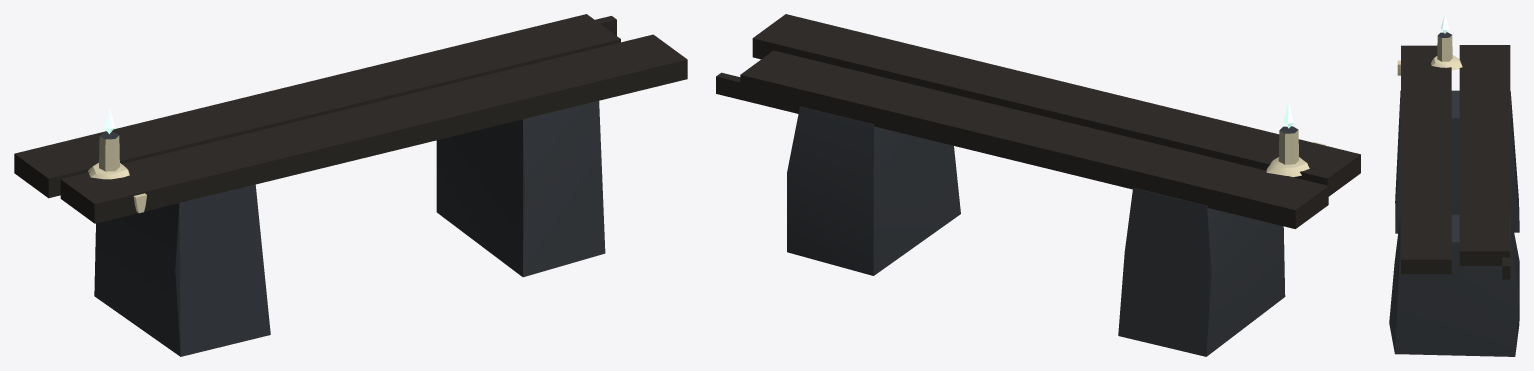
Rendered from Bench.fbx.
The picture shows the model from 3 angles, left to right: view 1: azimuth 30°, elevation 25°; view 2: azimuth 150°, elevation 25°; view 3: azimuth 270°, elevation 25°; orthographic projection. The views are drawn at different scales.
Parts seen in each view (by area): view 1: Bench; view 2: Bench; view 3: Bench.
Boxes of the visible parts, <box> form: Bench: <box>14,14,687,356</box>; Bench: <box>716,14,1360,356</box>; Bench: <box>1389,14,1519,356</box>.
Bounding box in the file's own units: 1.92 × 0.718 × 0.4899.
